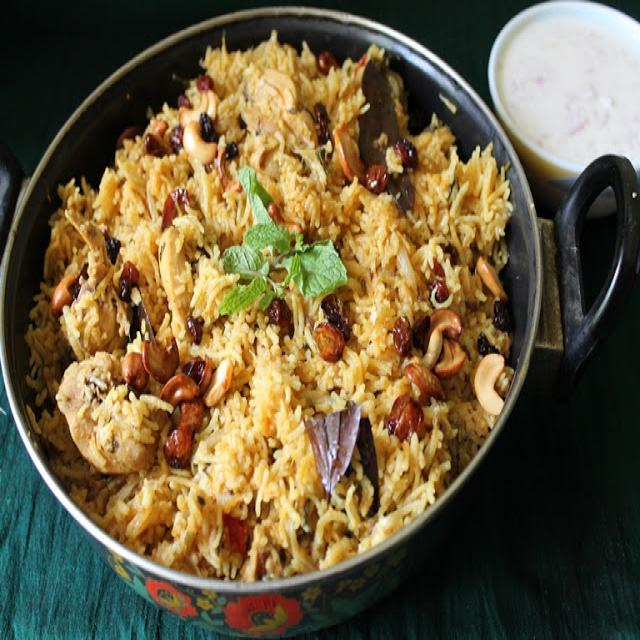Rice: (23, 32, 519, 584)
